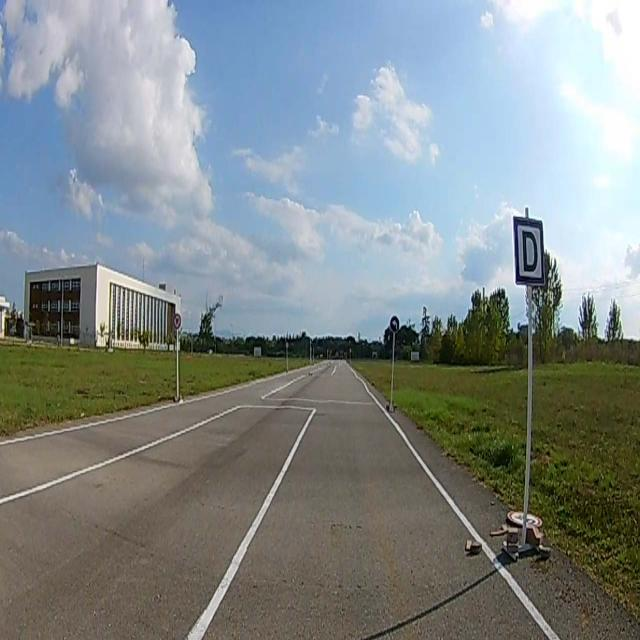durak: (513, 218, 545, 286)
sagadonulmez: (173, 315, 181, 329)
sol: (389, 316, 399, 330)
